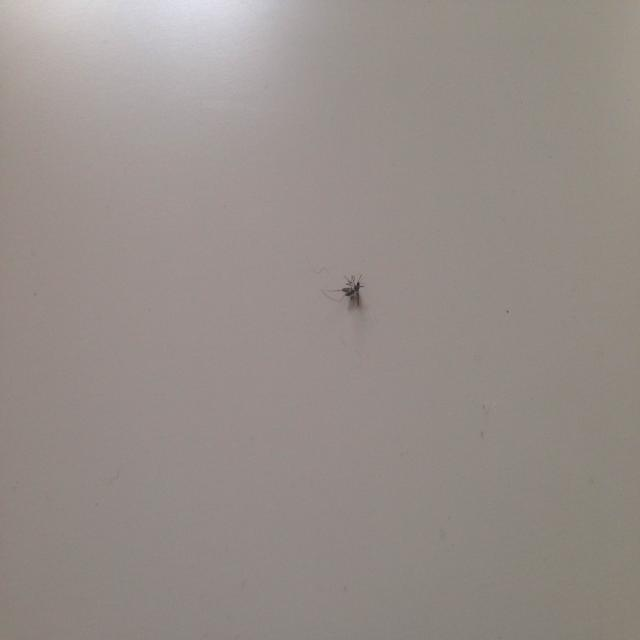albopictus: (313, 256, 372, 313)
